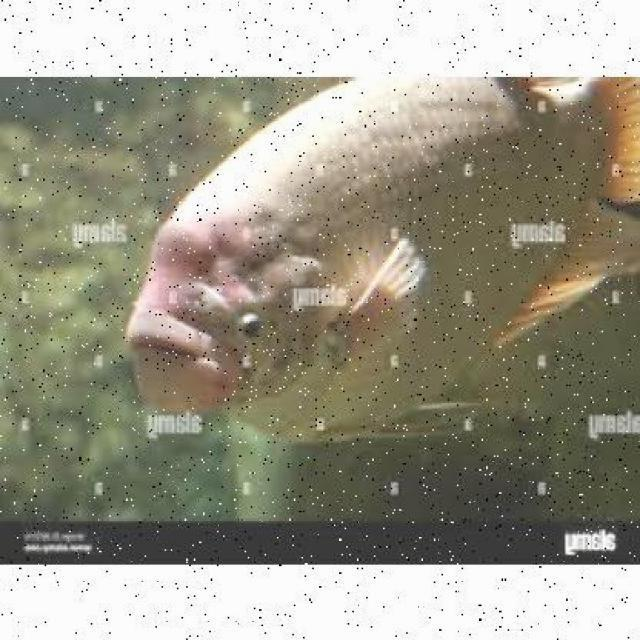gurame: (120, 75, 640, 448)
